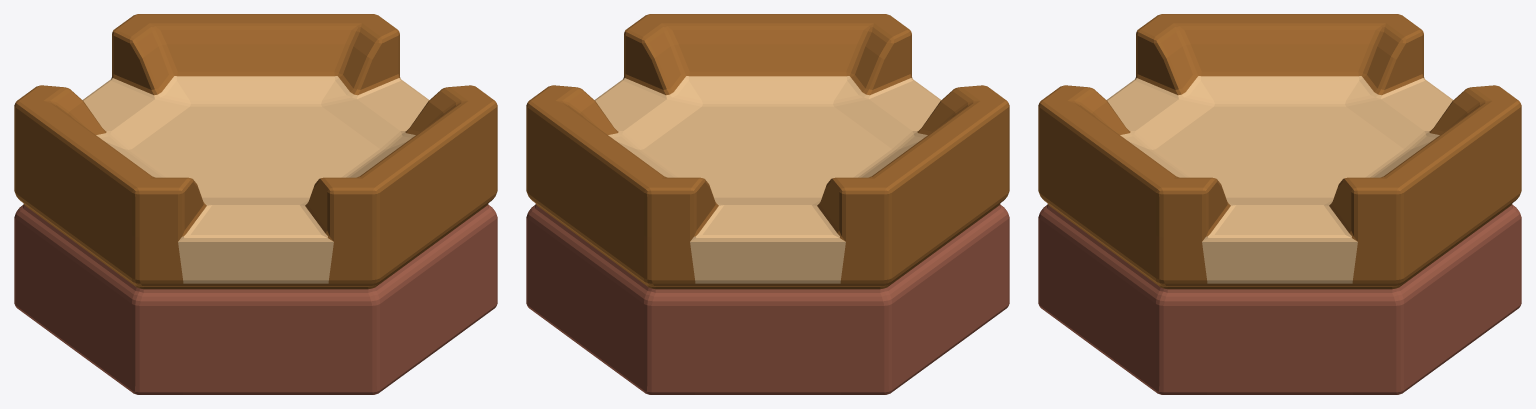
File: my_road_135.fbx
3 views of the same model, side by side, from view 1: azimuth 30°, elevation 25°; view 2: azimuth 150°, elevation 25°; view 3: azimuth 270°, elevation 25° (orthographic).
Parts seen in each view (by area): view 1: Circle.007; view 2: Circle.007; view 3: Circle.007.
Boxes of the visible parts, box(x1,y1,x2,y2) form: Circle.007: box(14, 14, 497, 394); Circle.007: box(526, 14, 1009, 394); Circle.007: box(1038, 14, 1521, 394).
Size of the model in its own units: 200 by 109 by 230.
